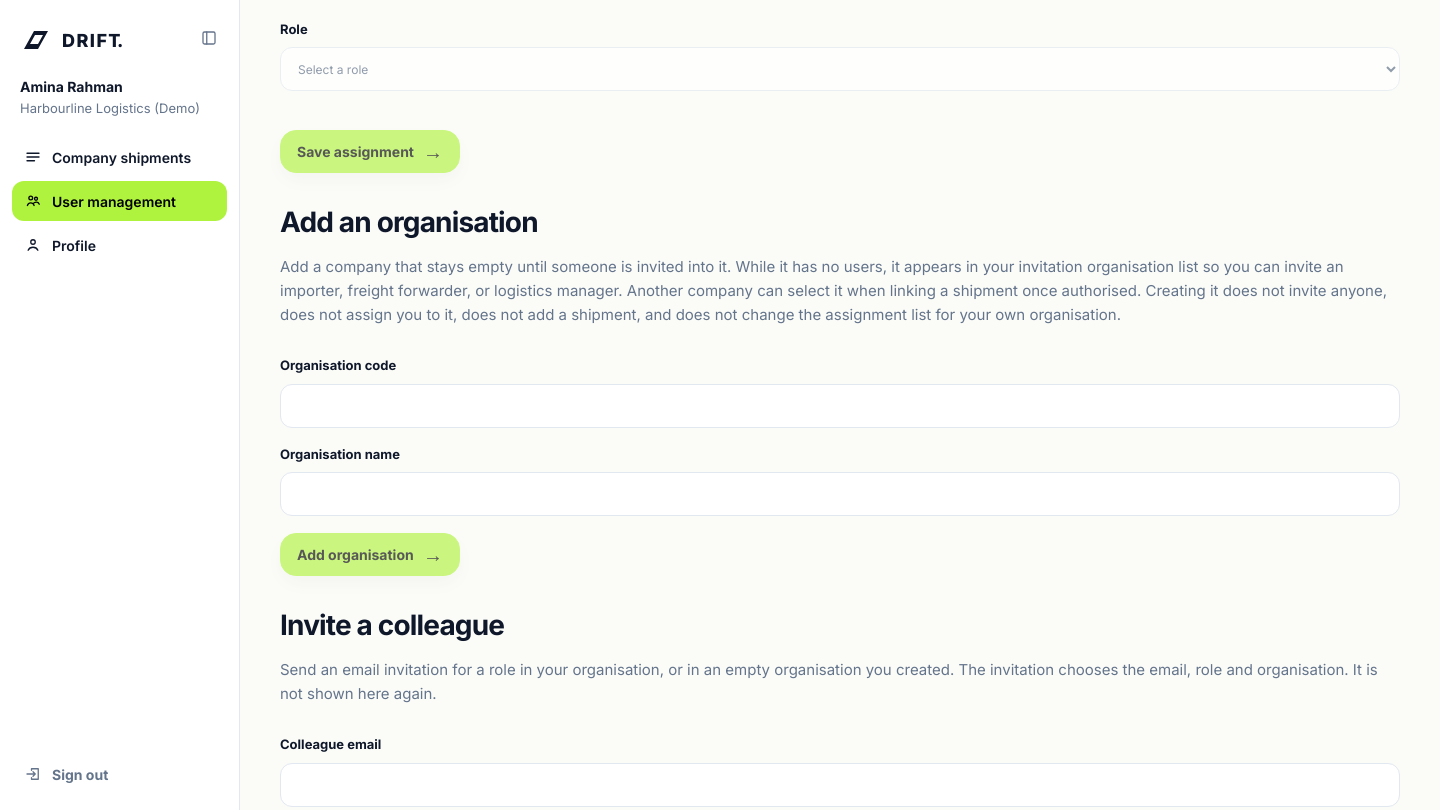
Test: user management › adds an organisation for invitation without offering it for assignment
The width and height of the screenshot is (1440, 810).
(page scrolled)
Check: the heading "Add an organisation" is shown, box [280, 205, 538, 239]
Type "PACIFIC_GATE" into the field labelled "Organisation code" at (840, 406), box [280, 384, 1400, 428]
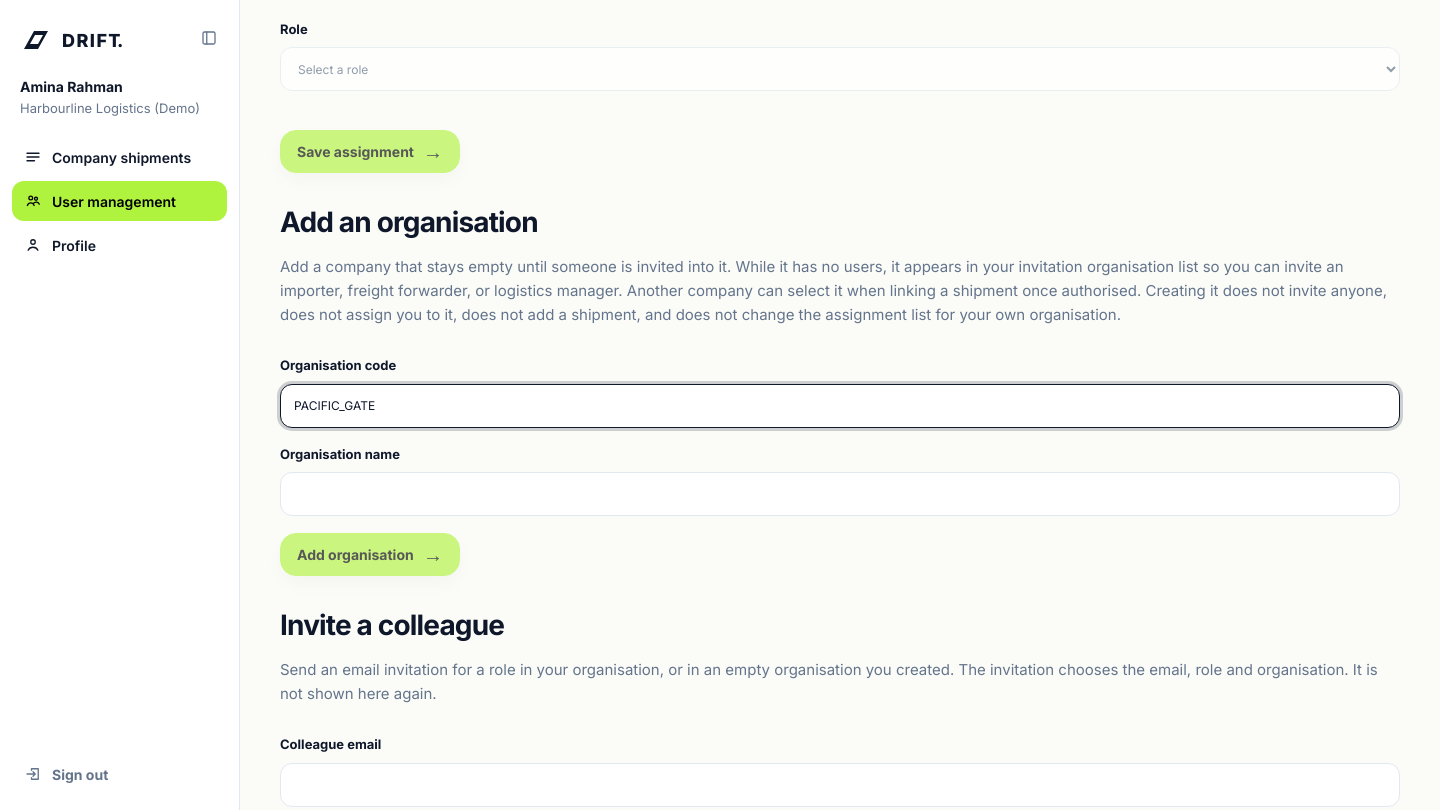
Type "Pacific Gate Imports" into the field labelled "Organisation name" at (840, 494), box [280, 472, 1400, 516]
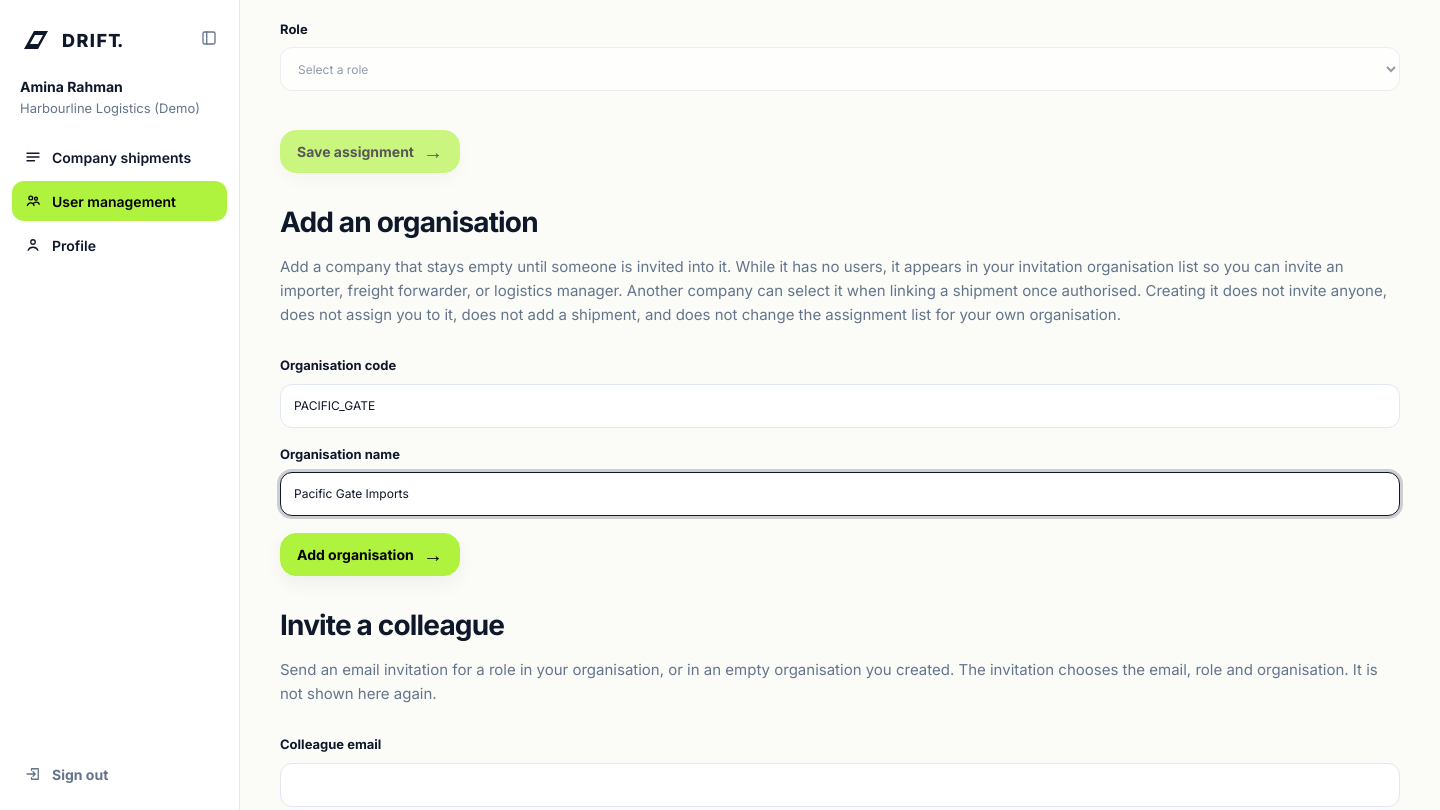
Click the button "Add organisation →" at (370, 555), box [280, 533, 460, 576]
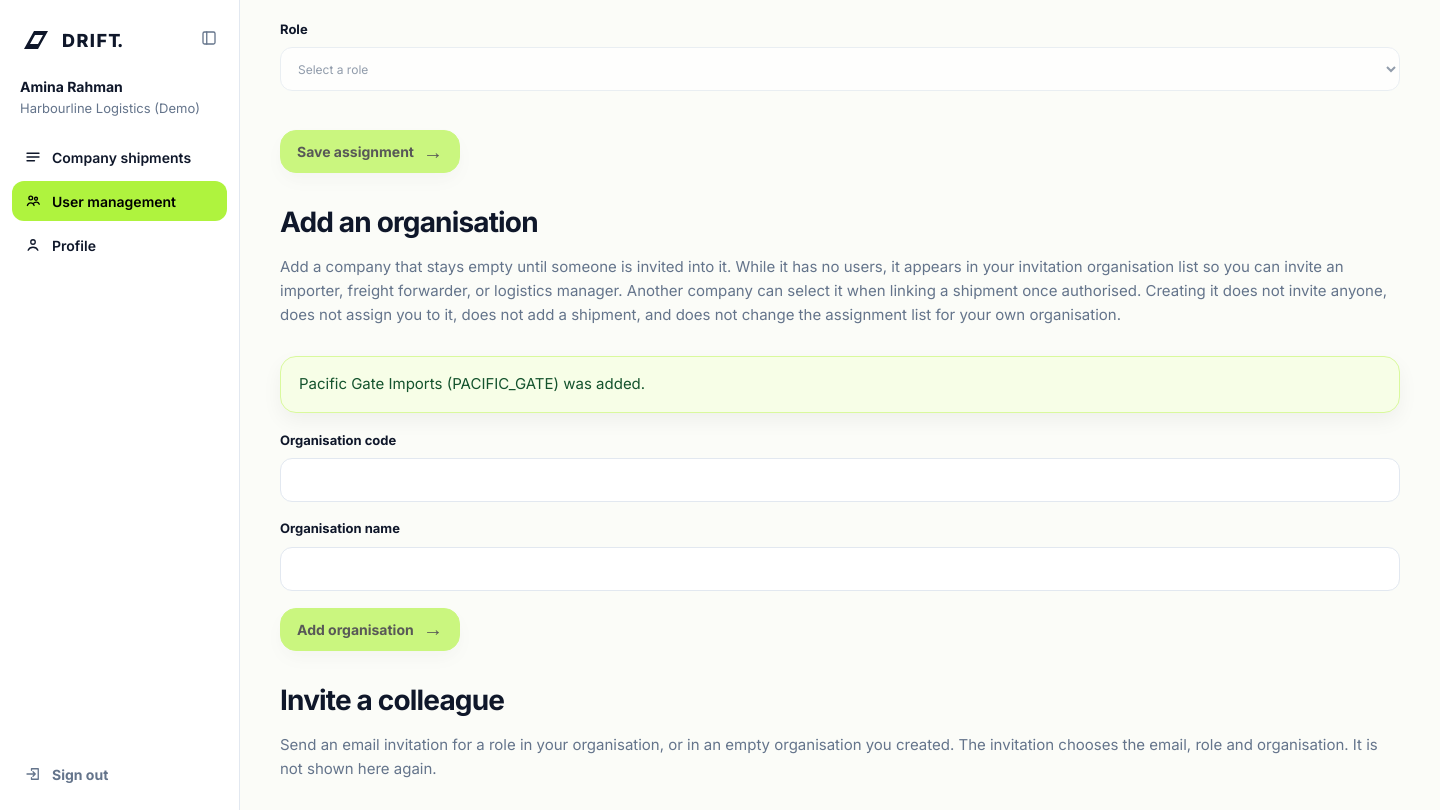
Check: the text "Pacific Gate Imports (PACIFIC_GATE) was added." is shown, box [280, 356, 1400, 413]
